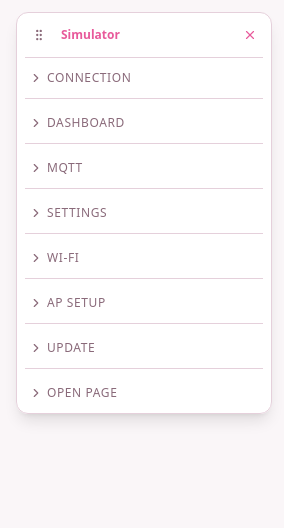
Test: MockToolbar › expands and collapses simulator sections
Expected: the button "SSE reconnecting" is not shown
Click the button "Connection" at (144, 78), box [25,66,263,90]
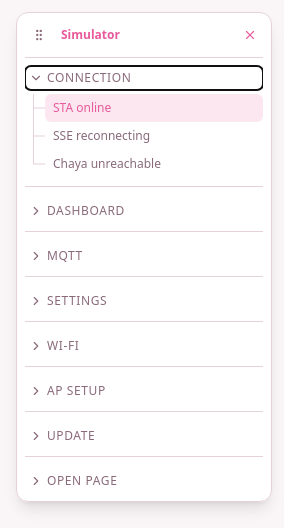
Expected: the button "SSE reconnecting" is shown, [45,122,263,150]
Click the button "Connection" at (144, 78), box [25,66,263,90]
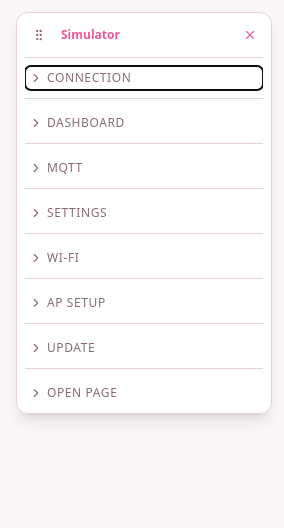
Expected: the button "SSE reconnecting" is gone
